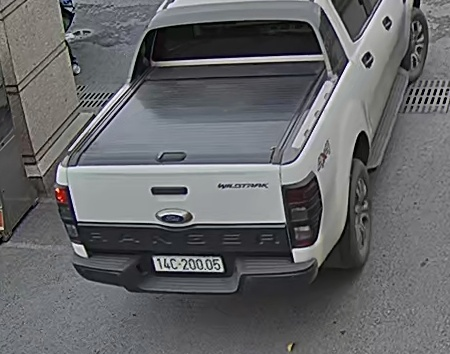vehicle plate: (151, 248, 223, 275)
